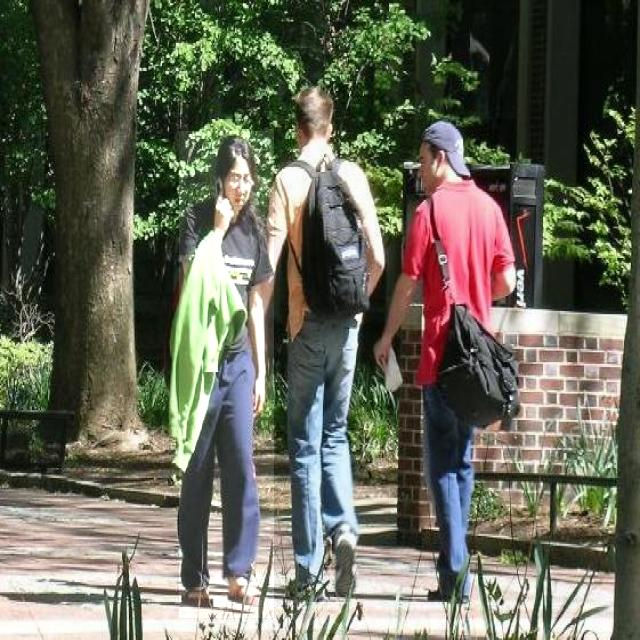with scooter: (378, 119, 520, 606), (270, 80, 386, 606), (179, 131, 274, 618)
